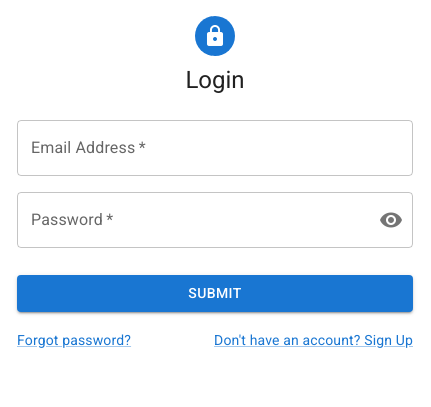
it: input email address invalid
Type "Quang" into the field labelled "Email Address *" at x=215, y=148, box [17,120,413,176]
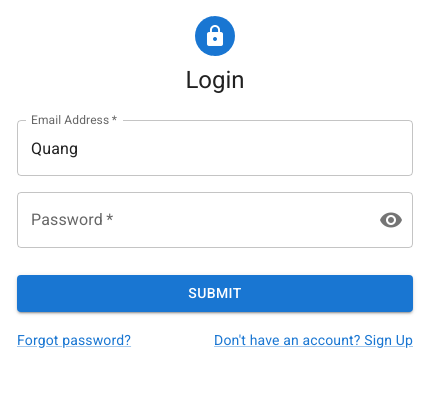
Click the button "Submit" at x=215, y=293, box [17,275,413,312]
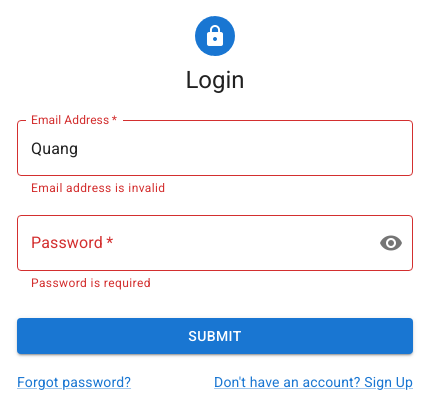
Now the text "Email address is invalid" is shown, box [31,181,166,195]
Now the text "Password is required" is shown, box [31,276,151,290]
